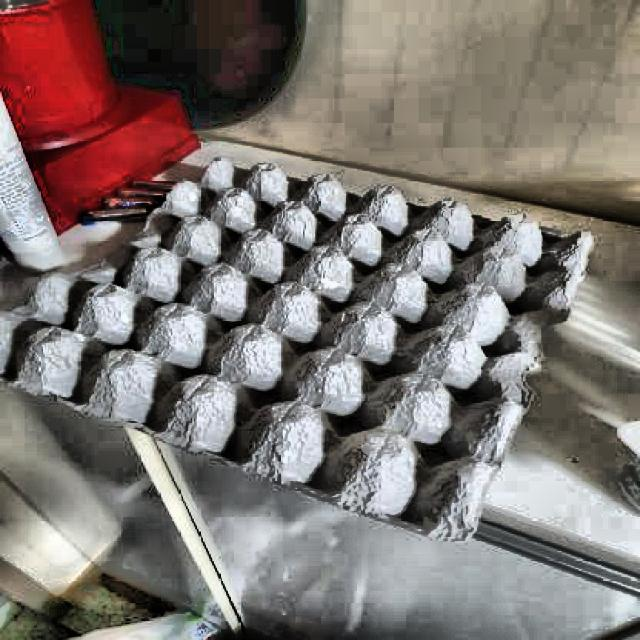Cardbox: (0, 136, 628, 531)
